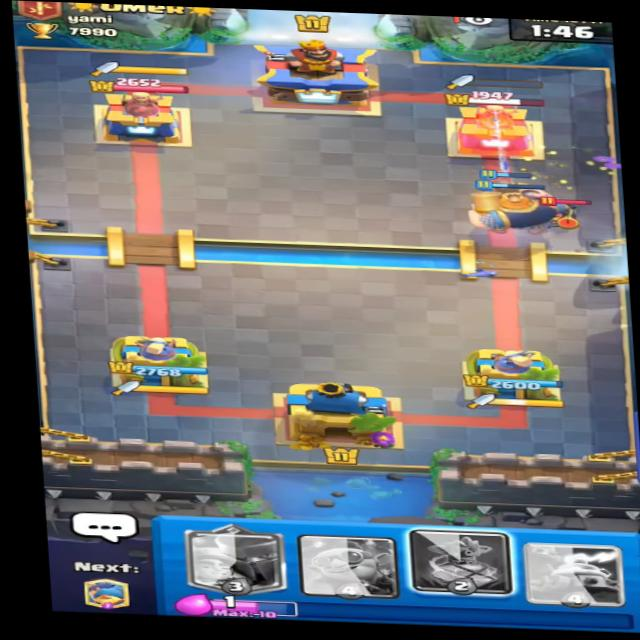Minipekka: (530, 196, 602, 234)
